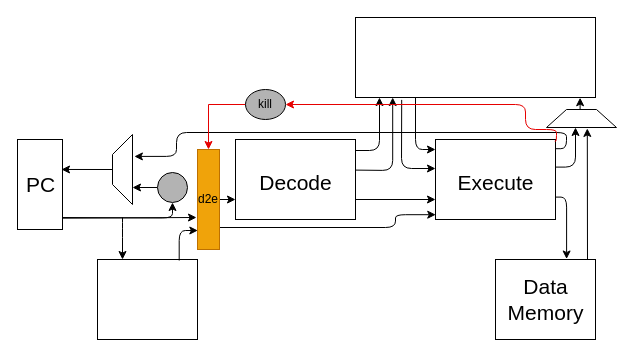
This 634x357 diagram has some shape labels left out. The shapes that lost their labels are listed below. From the top down, each one's centre as x and y in pixels, then its label:
the point at 475,57: Register File
the point at 172,187: pred
the point at 147,299: Inst Memory
